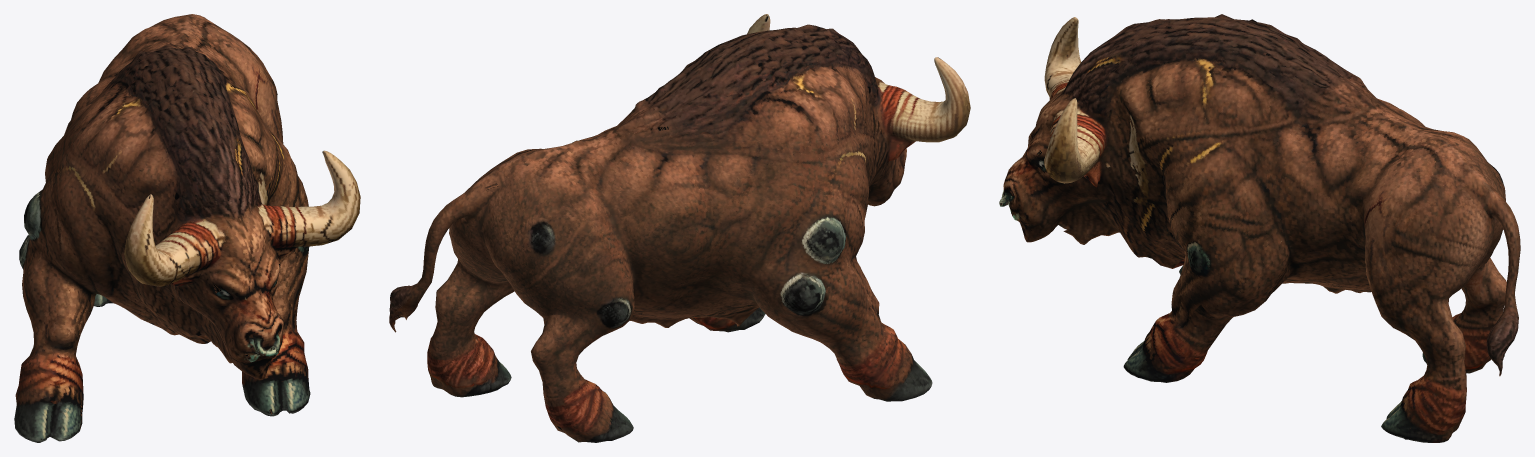
File: BullLP.glb
3 views of the same model, side by side, from view 1: azimuth 30°, elevation 25°; view 2: azimuth 150°, elevation 25°; view 3: azimuth 270°, elevation 25° (orthographic). The views are drawn at different scales.
Visible parts, largest first — view 1: Mesh0; view 2: Mesh0; view 3: Mesh0.
Part boxes in pixels (<box>): Mesh0: <box>14,14,360,442</box>; Mesh0: <box>389,14,970,442</box>; Mesh0: <box>999,14,1520,442</box>.
Size of the model in its own units: 1.67 by 1.3 by 1.92.
Materials: 1 (1 with a texture image).
